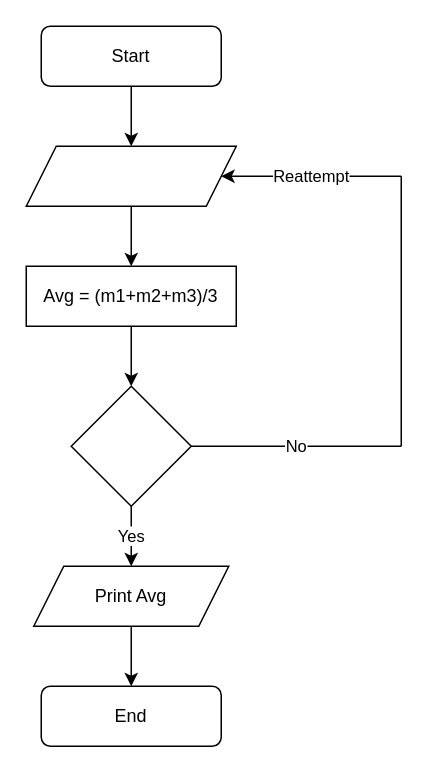
The diagram is 440 pixels wide and 773 high, and some of its shapes have lost their labels. Each missing label, with the centre of its shape:
If Avg>=75: the point at 130,445
Input m1, m2, m3: the point at 130,175
